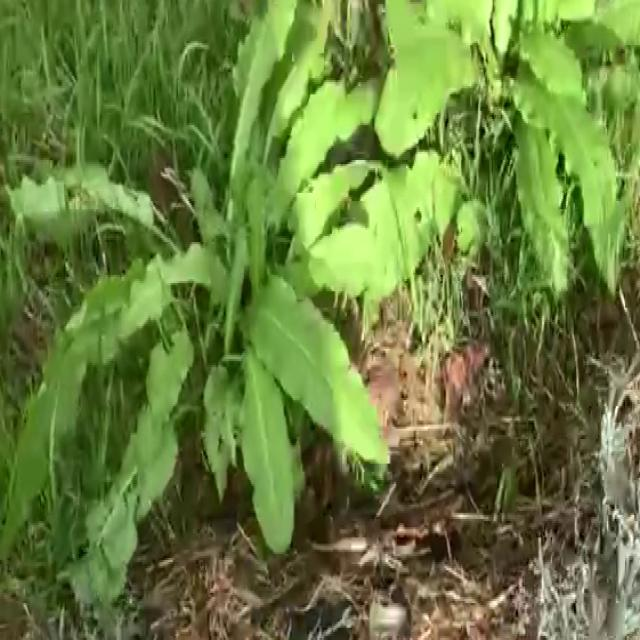organic waste: (0, 12, 392, 615), (379, 0, 640, 281)
